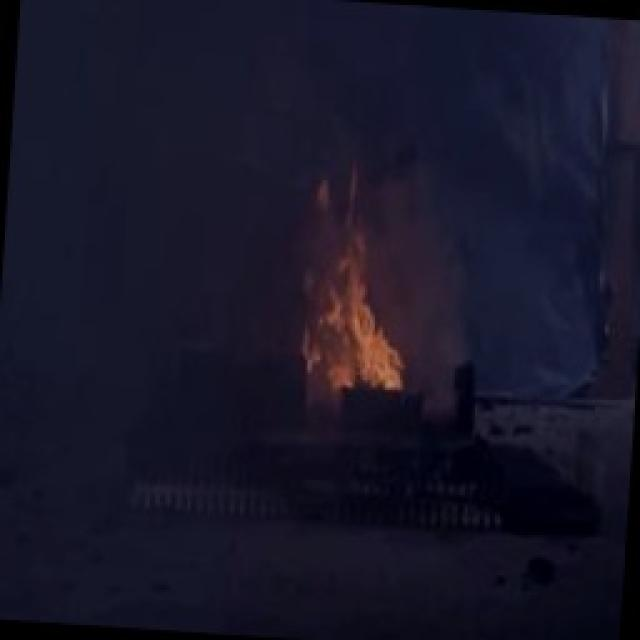fire: (302, 216, 418, 426)
